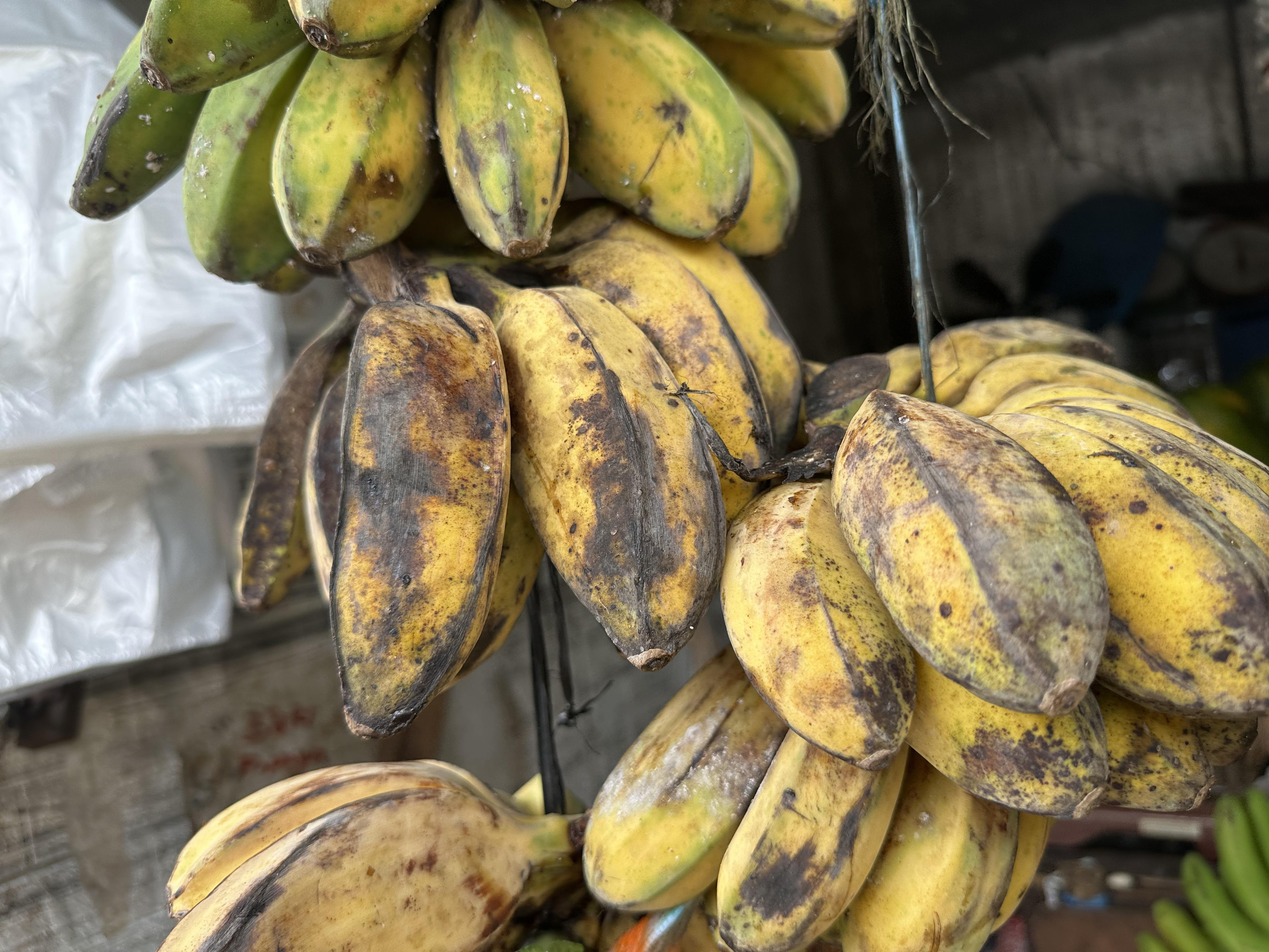ripe: (235, 199, 803, 739), (721, 316, 1269, 817), (156, 757, 536, 952)
underripe: (73, 0, 861, 296), (582, 645, 1058, 952)
